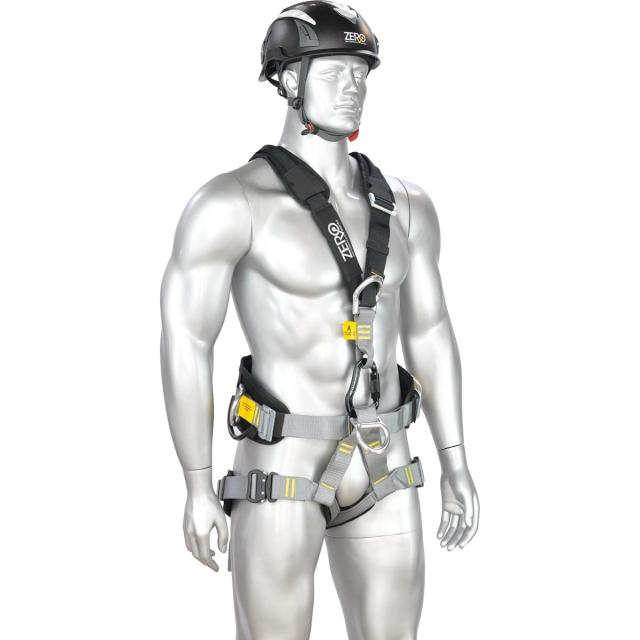Belt: (194, 139, 434, 534)
